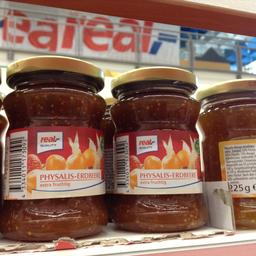jam: (2, 56, 108, 240), (108, 65, 206, 233), (196, 76, 254, 228)
